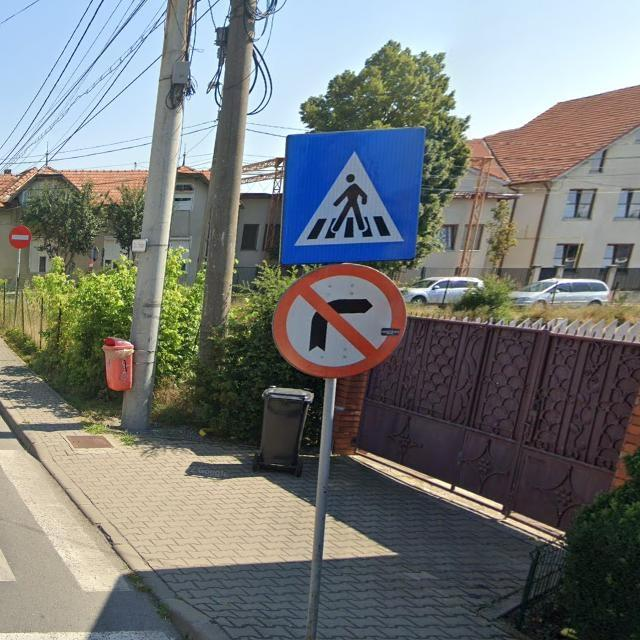info_crosswalk: (280, 128, 427, 263)
